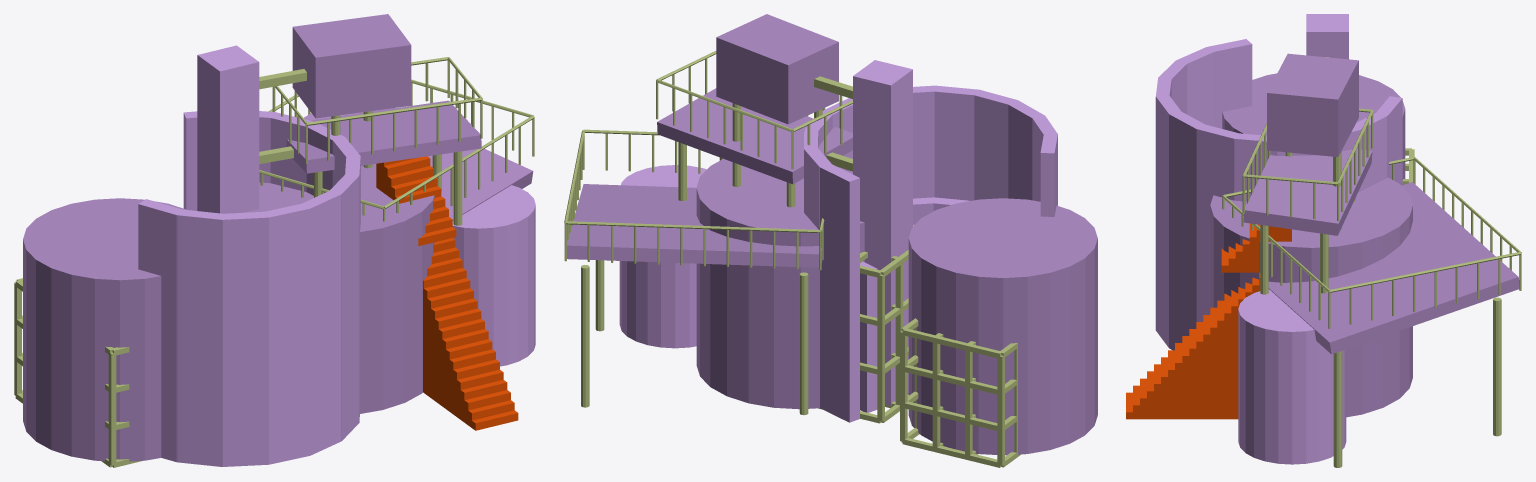
The model's file is folie_tag_024.glb.
The picture shows the model from 3 angles, left to right: view 1: azimuth 30°, elevation 25°; view 2: azimuth 150°, elevation 25°; view 3: azimuth 270°, elevation 25°; orthographic projection. The views are drawn at different scales.
Parts seen in each view (by area): view 1: folie_tag_024_03_curve, folie_tag_024_02_drum, folie_tag_024_00_drum, folie_tag_024_stairs, folie_tag_024_06_drum, folie_tag_024_08_block, folie_tag_024_core, folie_tag_024_line, folie_tag_024_05_plate, folie_tag_024_01_plate, folie_tag_024_10_cage, folie_tag_024_07_cage; view 2: folie_tag_024_02_drum, folie_tag_024_03_curve, folie_tag_024_00_drum, folie_tag_024_core, folie_tag_024_line, folie_tag_024_01_plate, folie_tag_024_08_block, folie_tag_024_07_cage, folie_tag_024_06_drum, folie_tag_024_05_plate, folie_tag_024_04_cage, folie_tag_024_09_curve; view 3: folie_tag_024_03_curve, folie_tag_024_01_plate, folie_tag_024_00_drum, folie_tag_024_06_drum, folie_tag_024_stairs, folie_tag_024_line, folie_tag_024_08_block, folie_tag_024_05_plate, folie_tag_024_02_drum, folie_tag_024_core.
Part boxes in pixels (x1,y1,x2,y2): folie_tag_024_03_curve: (138,111,360,466); folie_tag_024_02_drum: (23,198,186,461); folie_tag_024_00_drum: (245,164,434,413); folie_tag_024_stairs: (376,156,518,430); folie_tag_024_06_drum: (452,185,535,366); folie_tag_024_08_block: (292,14,411,118); folie_tag_024_core: (197,45,259,213); folie_tag_024_line: (259,57,534,225); folie_tag_024_05_plate: (286,100,481,173); folie_tag_024_01_plate: (304,108,533,220); folie_tag_024_10_cage: (101,346,141,467); folie_tag_024_07_cage: (14,278,22,403); folie_tag_024_02_drum: (908,198,1097,455); folie_tag_024_03_curve: (804,85,1057,422); folie_tag_024_00_drum: (696,159,864,409); folie_tag_024_core: (853,60,912,405); folie_tag_024_line: (564,51,852,415); folie_tag_024_01_plate: (567,184,822,267); folie_tag_024_08_block: (716,14,838,124); folie_tag_024_07_cage: (900,318,1021,467); folie_tag_024_06_drum: (619,165,706,348); folie_tag_024_05_plate: (657,88,852,184); folie_tag_024_04_cage: (818,224,914,423); folie_tag_024_09_curve: (860,197,969,412); folie_tag_024_03_curve: (1155,39,1402,350); folie_tag_024_01_plate: (1268,182,1519,354); folie_tag_024_00_drum: (1210,177,1412,417); folie_tag_024_06_drum: (1238,289,1346,464); folie_tag_024_stairs: (1126,223,1291,419); folie_tag_024_line: (1222,57,1521,467); folie_tag_024_08_block: (1267,53,1358,156); folie_tag_024_05_plate: (1243,149,1372,235); folie_tag_024_02_drum: (1222,73,1405,179); folie_tag_024_core: (1306,14,1348,59).
Bounding box in the file's own units: 14.23 × 8.88 × 10.15.
